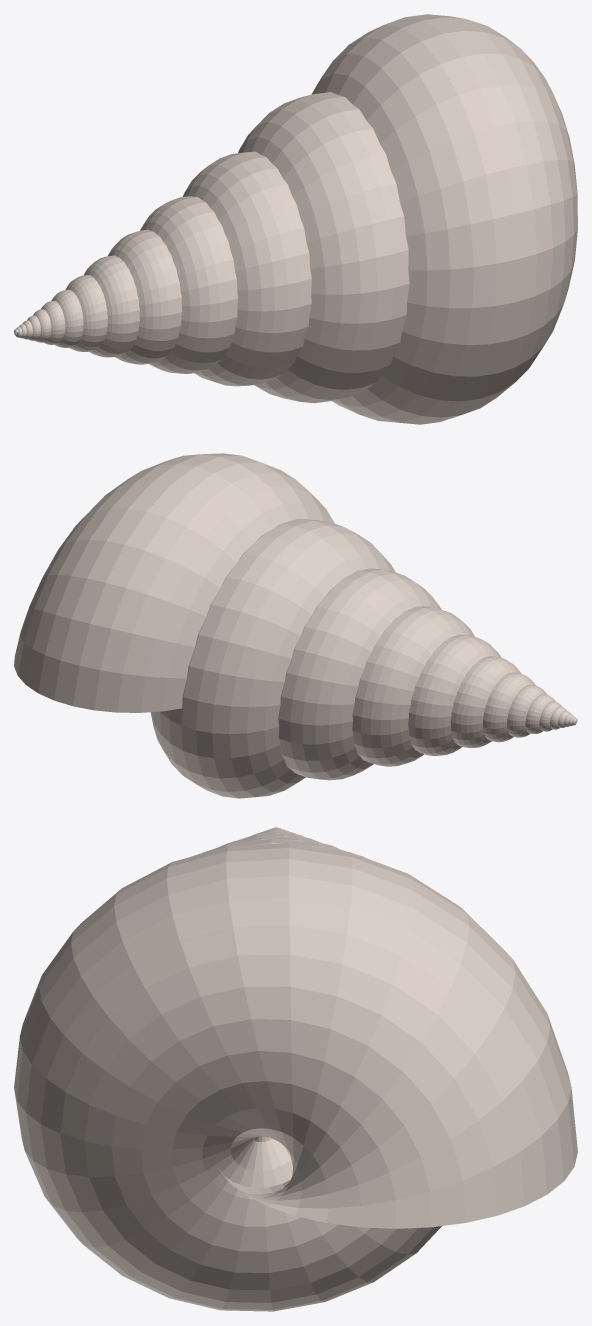
The model's file is ConicalShell.glb.
3 views of the same model, one above another, from view 1: azimuth 30°, elevation 25°; view 2: azimuth 150°, elevation 25°; view 3: azimuth 270°, elevation 25° (orthographic). The views are drawn at different scales.
Visible parts, largest first — view 1: Circle; view 2: Circle; view 3: Circle.
Part boxes in pixels (left/top/right/bottom): Circle: left=14, top=14, right=577, bottom=424; Circle: left=14, top=453, right=577, bottom=798; Circle: left=14, top=827, right=577, bottom=1311.
Bounding box in the file's own units: 4.95 × 2.89 × 3.1.
